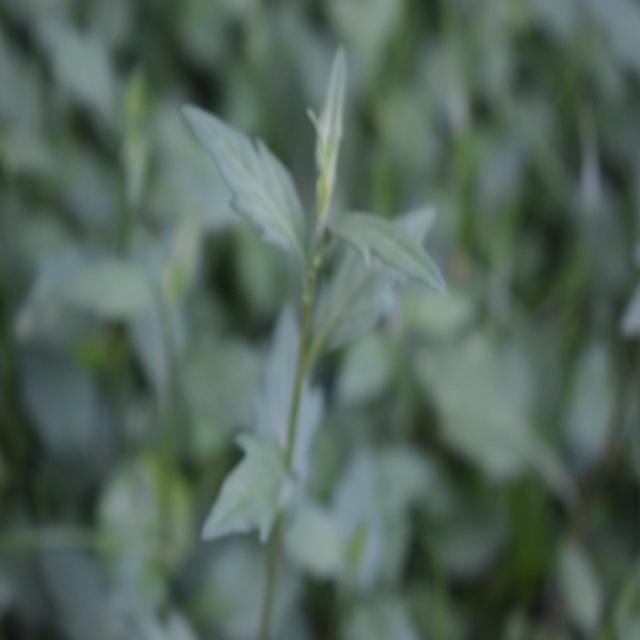Indian aster: (197, 71, 443, 553)
